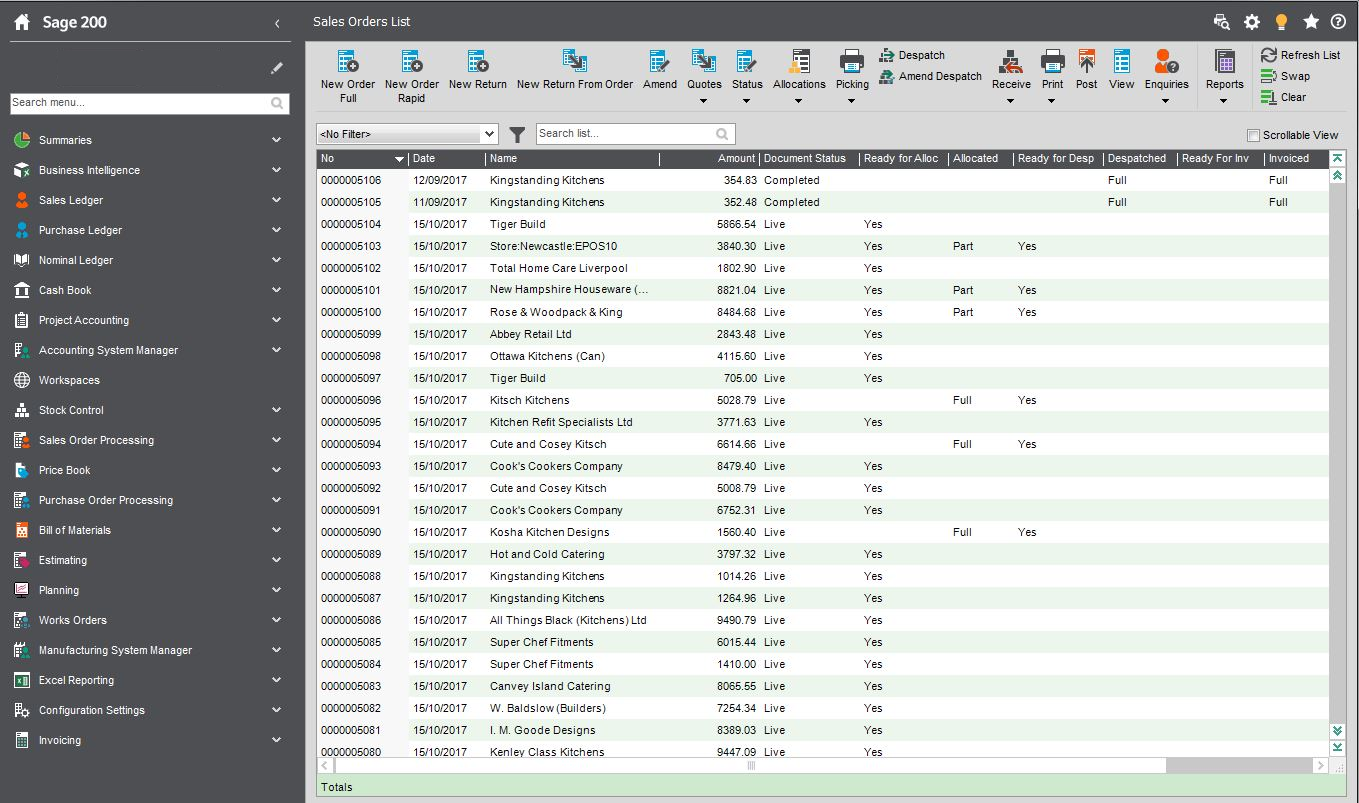CHECKBOX_CHECKED: (1246, 128, 1261, 143)
COLUMN: (484, 150, 656, 756), (656, 150, 757, 756), (758, 149, 857, 756), (312, 149, 409, 755), (1011, 151, 1101, 756), (858, 149, 946, 755), (1175, 151, 1257, 757), (1102, 150, 1175, 758), (410, 152, 483, 756), (1260, 151, 1329, 757), (946, 149, 1012, 758)
COMBOBOX: (315, 122, 500, 146)
DROPDOWN_HANDLE: (265, 126, 288, 151), (263, 274, 286, 299), (263, 243, 286, 268), (262, 217, 285, 242), (263, 186, 286, 211), (263, 157, 286, 182), (262, 456, 285, 481), (262, 426, 285, 451), (262, 396, 285, 421), (262, 337, 285, 362), (263, 305, 286, 330), (263, 603, 286, 628), (263, 573, 286, 598), (262, 545, 285, 570), (262, 516, 285, 541), (262, 486, 285, 511), (264, 634, 287, 659), (263, 666, 286, 691), (263, 695, 286, 720), (264, 728, 287, 753), (478, 121, 500, 146)
HEADER_ROW: (316, 149, 1328, 169)
IMAGEBUTTON: (1266, 6, 1298, 38), (1205, 7, 1238, 37), (6, 9, 37, 37), (1239, 7, 1267, 37), (1299, 6, 1324, 39), (1324, 6, 1350, 36), (503, 123, 532, 147), (265, 13, 291, 37), (263, 56, 289, 80)
IMAGEBUTTON_TEXT: (510, 42, 638, 107), (313, 41, 381, 112), (443, 41, 509, 111), (381, 42, 442, 112), (769, 42, 829, 110), (1140, 41, 1195, 112), (1200, 41, 1251, 111), (988, 40, 1036, 110), (830, 41, 873, 110), (724, 42, 767, 110), (682, 42, 723, 113), (874, 40, 961, 68), (1036, 41, 1070, 109), (639, 41, 680, 97), (1252, 42, 1343, 65), (873, 69, 983, 86), (1105, 41, 1139, 96), (1070, 42, 1105, 95), (1251, 65, 1319, 87), (1251, 87, 1317, 109)
ROW: (313, 630, 1327, 654), (315, 169, 1325, 189), (318, 739, 1328, 759), (317, 719, 1327, 739), (317, 697, 1327, 717), (317, 588, 1327, 608), (317, 609, 1327, 629), (317, 655, 1327, 675), (316, 676, 1326, 696), (316, 276, 1326, 296), (315, 255, 1325, 275), (313, 233, 1323, 253), (316, 189, 1326, 209), (315, 210, 1325, 230), (317, 477, 1327, 497), (316, 505, 1326, 525), (316, 524, 1326, 544), (315, 546, 1325, 566), (316, 567, 1326, 587), (314, 389, 1324, 409), (314, 365, 1324, 385), (315, 344, 1325, 364), (315, 323, 1325, 343), (316, 299, 1326, 319), (318, 410, 1328, 430), (318, 433, 1328, 453), (319, 455, 1329, 475)
SCROLLBAR_HORIZONTAL: (314, 757, 1331, 772)
SCROLLBAR_HORIZONTAL_BAR: (1163, 758, 1311, 770)
SCROLLBAR_HORIZONTAL_HANDLE_LEFT: (317, 756, 335, 773)
SCROLLBAR_HORIZONTAL_HANDLE_RIGHT: (1311, 756, 1330, 773)
SCROLLBAR_VERTICAL: (1328, 149, 1347, 756)
SCROLLBAR_VERTICAL_BAR: (1329, 182, 1347, 724)
SCROLLBAR_VERTICAL_HANDLE_DOWN: (1329, 150, 1345, 185)
SCROLLBAR_VERTICAL_HANDLE_UP: (1328, 722, 1347, 755)
SEARCHBOX: (8, 92, 292, 116), (535, 122, 737, 146)
SEARCH_ICON: (265, 92, 289, 115), (711, 122, 735, 145)
TABLE: (317, 151, 1326, 755)
